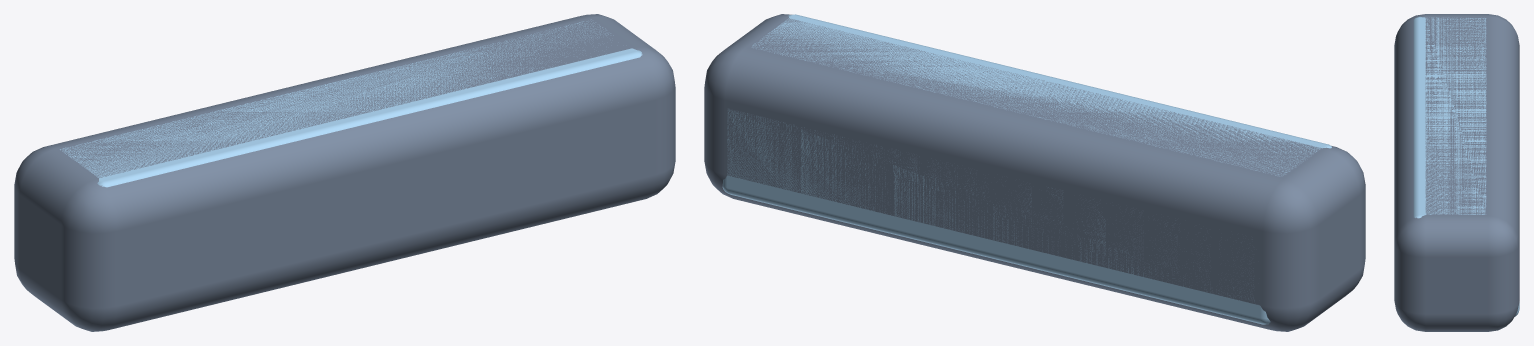
Rendered from paddle.glb.
3 views of the same model, side by side, from view 1: azimuth 30°, elevation 25°; view 2: azimuth 150°, elevation 25°; view 3: azimuth 270°, elevation 25° (orthographic). The views are drawn at different scales.
Visible parts, largest first — view 1: Paddle; view 2: Paddle; view 3: Paddle.
Boxes of the visible parts, bbox=[...] form: Paddle: bbox=[14, 14, 675, 331]; Paddle: bbox=[704, 14, 1365, 331]; Paddle: bbox=[1394, 14, 1519, 331].
Size of the model in its own units: 1.28 by 0.3 by 0.3.
